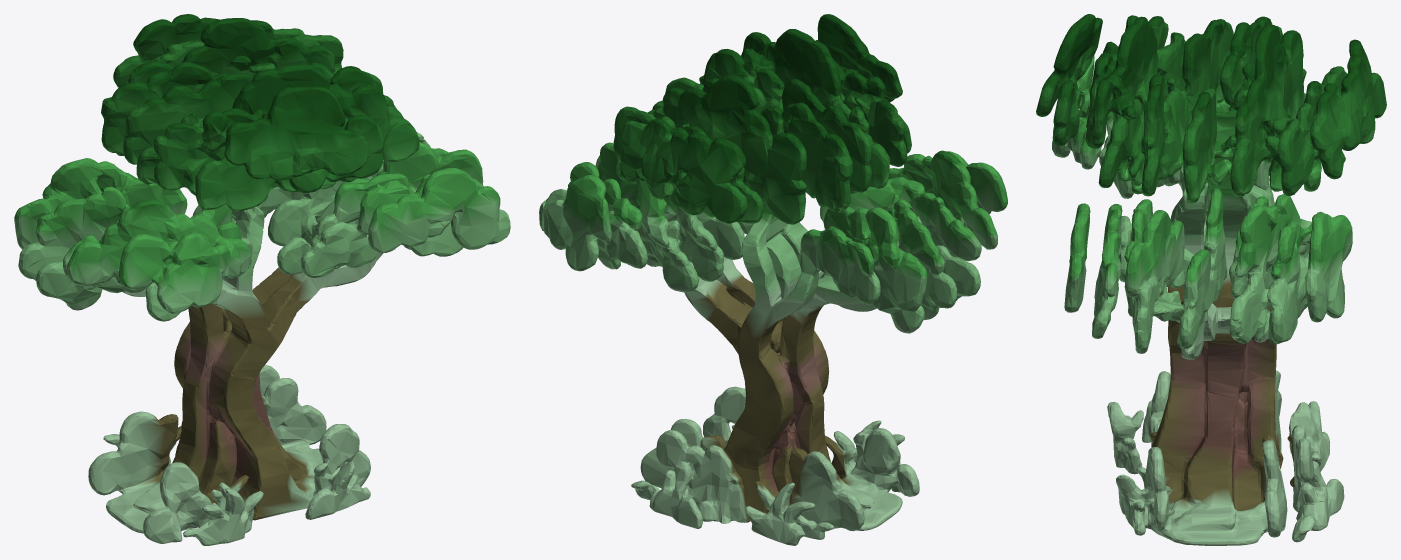
The model's file is tree.glb.
3 views of the same model, side by side, from view 1: azimuth 30°, elevation 25°; view 2: azimuth 150°, elevation 25°; view 3: azimuth 270°, elevation 25° (orthographic). The views are drawn at different scales.
Visible parts, largest first — view 1: tmpaiwt4p3v.ply; view 2: tmpaiwt4p3v.ply; view 3: tmpaiwt4p3v.ply.
Boxes of the visible parts, bbox=[...] form: tmpaiwt4p3v.ply: bbox=[14, 14, 510, 545]; tmpaiwt4p3v.ply: bbox=[539, 14, 1007, 545]; tmpaiwt4p3v.ply: bbox=[1036, 14, 1386, 545].
Size of the model in its own units: 1.95 by 1.96 by 1.33.
